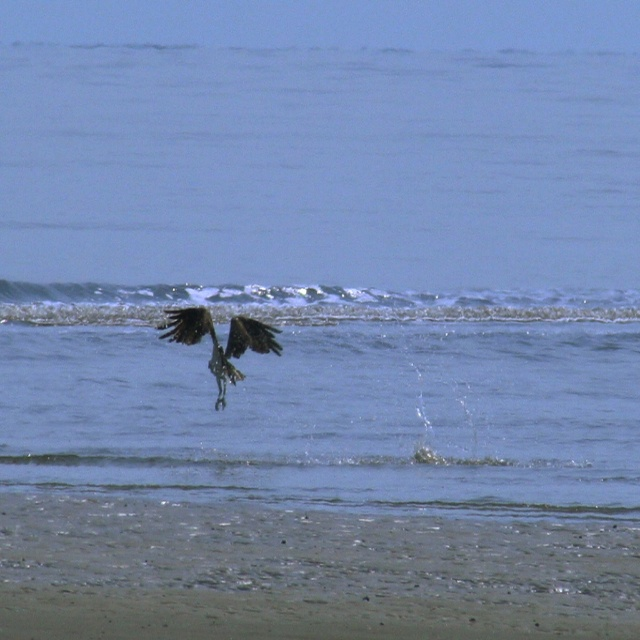Eagle: (151, 306, 280, 415)
